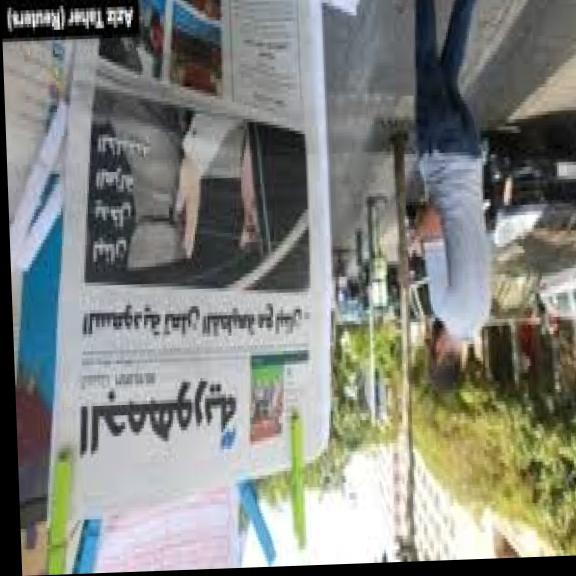Kertas: (25, 36, 340, 500)
